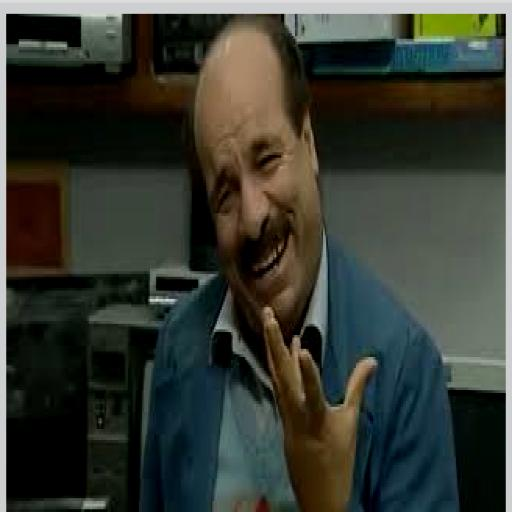beji_matrix: (190, 14, 322, 329)
